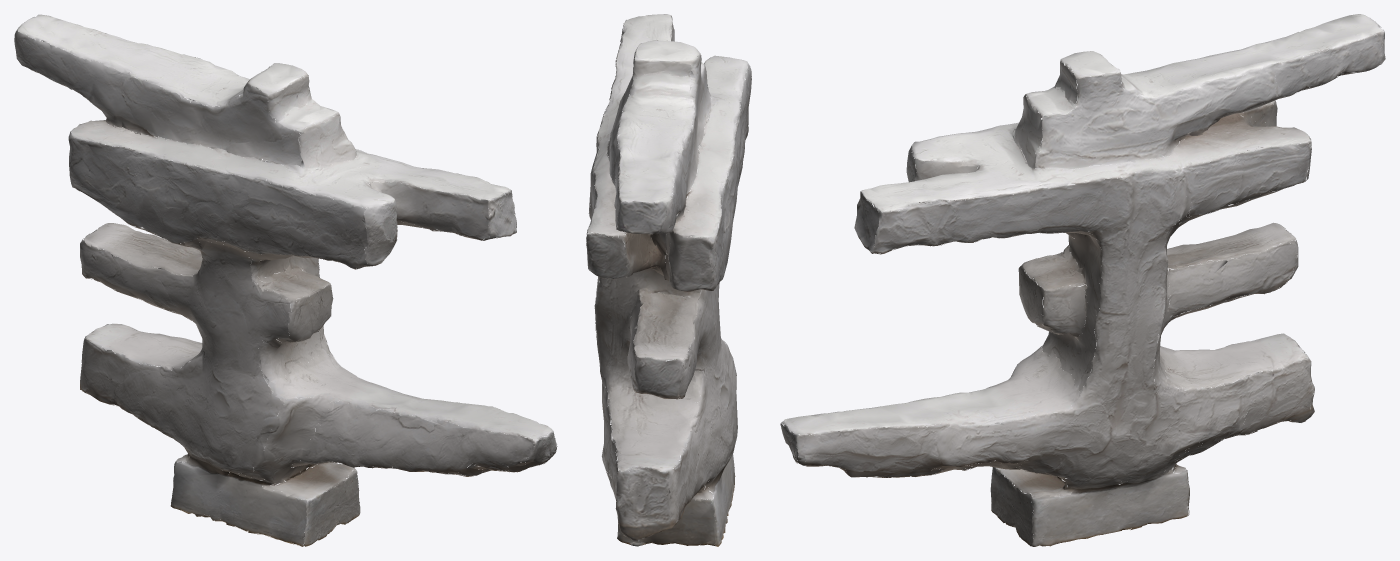
Rendered from hyun.glb.
The picture shows the model from 3 angles, left to right: view 1: azimuth 30°, elevation 25°; view 2: azimuth 150°, elevation 25°; view 3: azimuth 270°, elevation 25°; orthographic projection. The views are drawn at different scales.
Visible parts, largest first — view 1: Mesh_0_Part_0; view 2: Mesh_0_Part_0; view 3: Mesh_0_Part_0.
Part boxes in pixels (x1=…): Mesh_0_Part_0: x1=14, y1=14, x2=557, y2=546; Mesh_0_Part_0: x1=586, y1=14, x2=751, y2=546; Mesh_0_Part_0: x1=780, y1=14, x2=1385, y2=546.
Size of the model in its own units: 2.12 by 3.22 by 3.85.
Materials: 1 (1 with a texture image).
